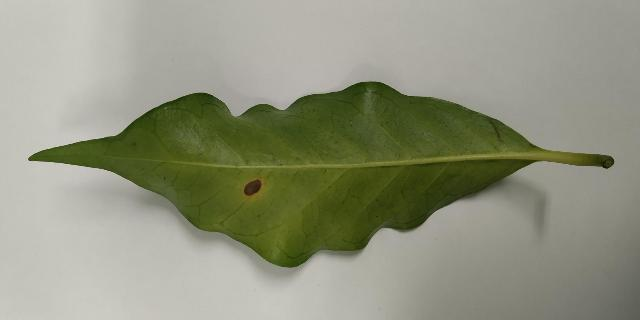phoma: (243, 177, 265, 197)
